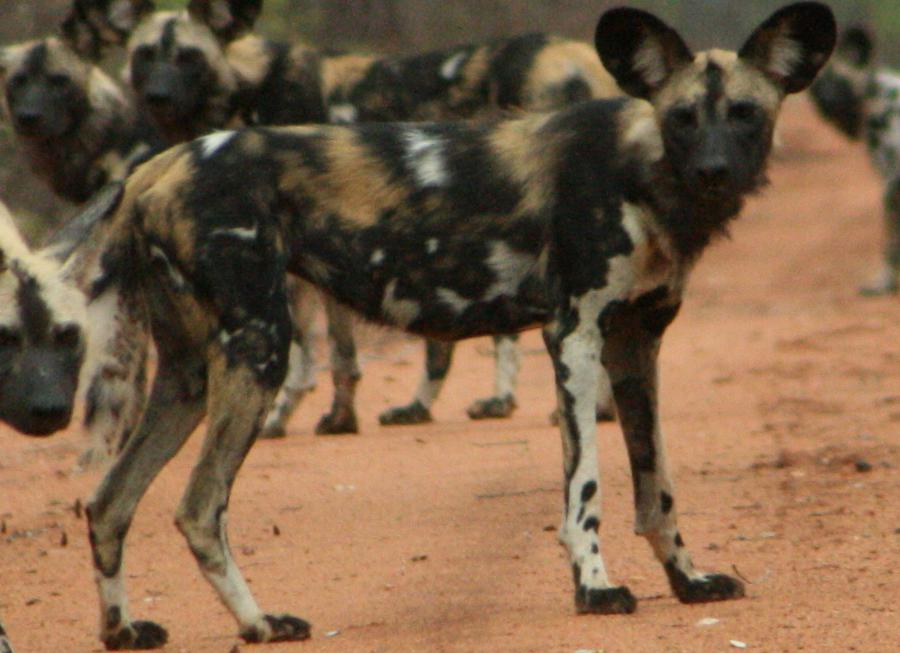wilddog: (1, 1, 900, 653)
